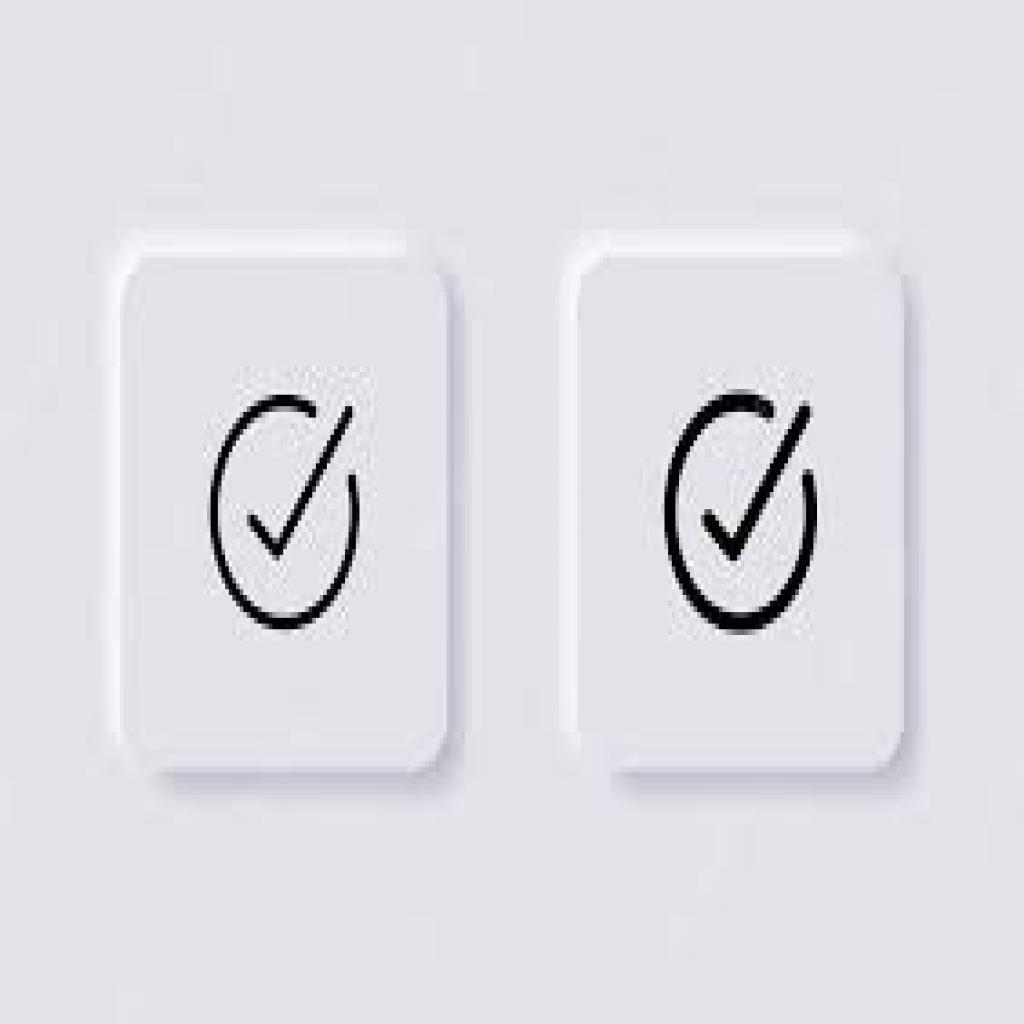checkbox: (571, 255, 909, 774), (120, 255, 448, 774)
